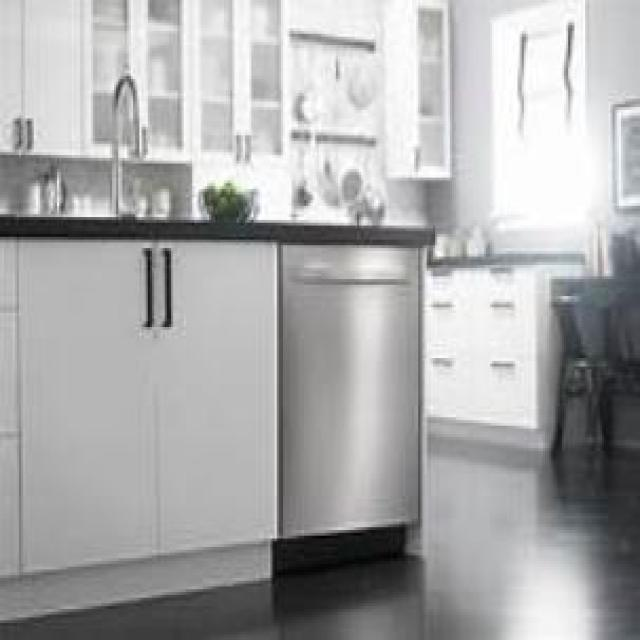dishwasher: (277, 234, 418, 533)
